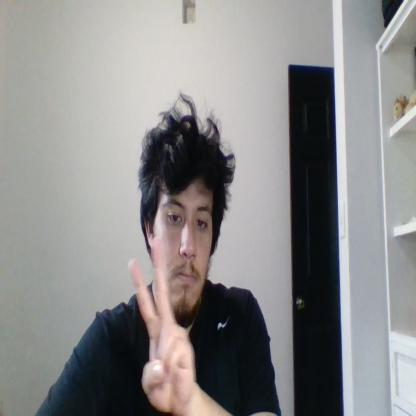V: (128, 236, 196, 413)
